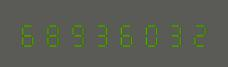eight: (41, 20, 64, 47)
nine: (65, 20, 88, 47)
six: (17, 20, 40, 47), (113, 20, 136, 47)
three: (89, 20, 112, 47), (161, 20, 184, 47)
two: (185, 20, 208, 47)
zero: (137, 20, 160, 47)
